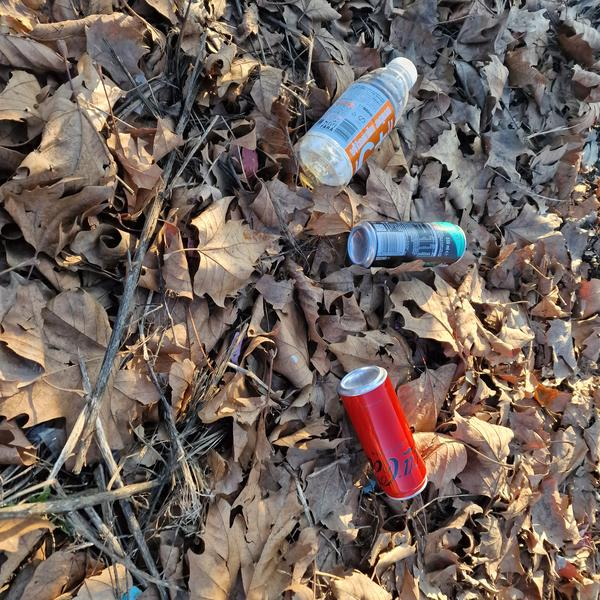can: (332, 358, 438, 508), (348, 220, 466, 268)
plastic_bottle: (285, 40, 434, 199)
